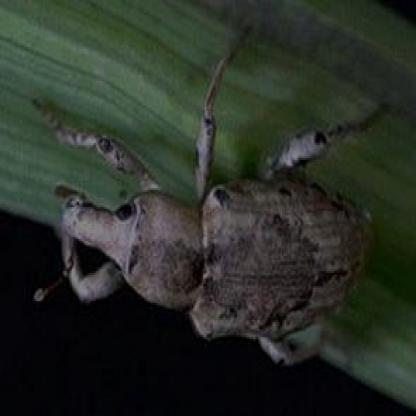rice-bug: (52, 35, 370, 353)
